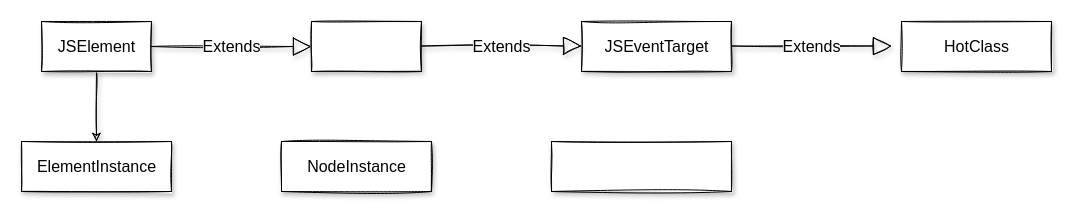
Some shapes in this 1075 by 216 pixel diagram are drawn without their labels. Each missing label, with the centre of its shape:
"EventTargetInstance" goes at (642,167).
"JSNode" goes at (367,47).
